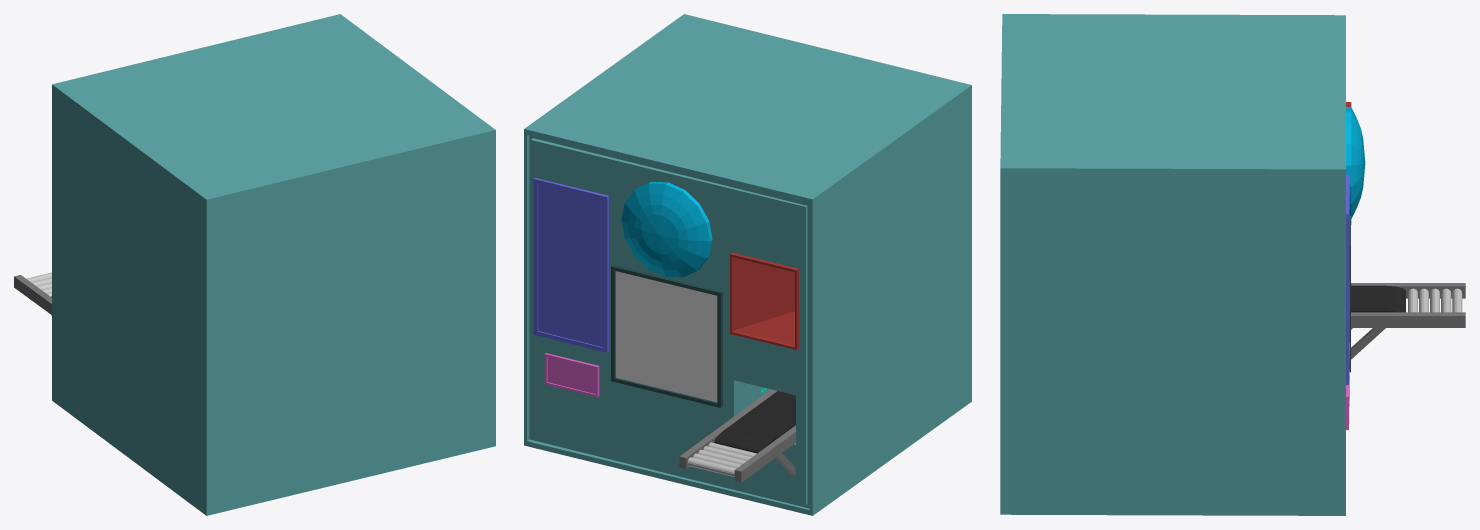
Rendered from InstaPresser.fbx.
3 views of the same model, side by side, from view 1: azimuth 30°, elevation 25°; view 2: azimuth 150°, elevation 25°; view 3: azimuth 270°, elevation 25° (orthographic). The views are drawn at different scales.
Parts seen in each view (by area): view 1: Presser; view 2: Presser; view 3: Presser.
Boxes of the visible parts, bbox=[...] form: Presser: bbox=[14, 14, 495, 515]; Presser: bbox=[524, 14, 971, 515]; Presser: bbox=[1000, 14, 1465, 515].
Bounding box in the file's own units: 225 × 233 × 284.
